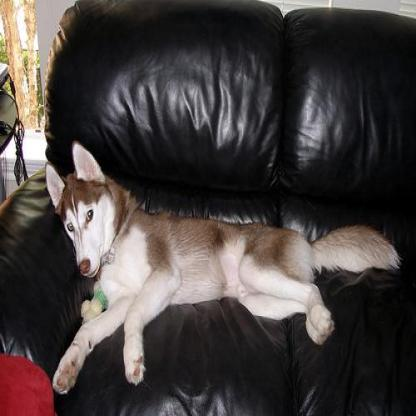Eskimo_dog: (43, 140, 400, 396)
